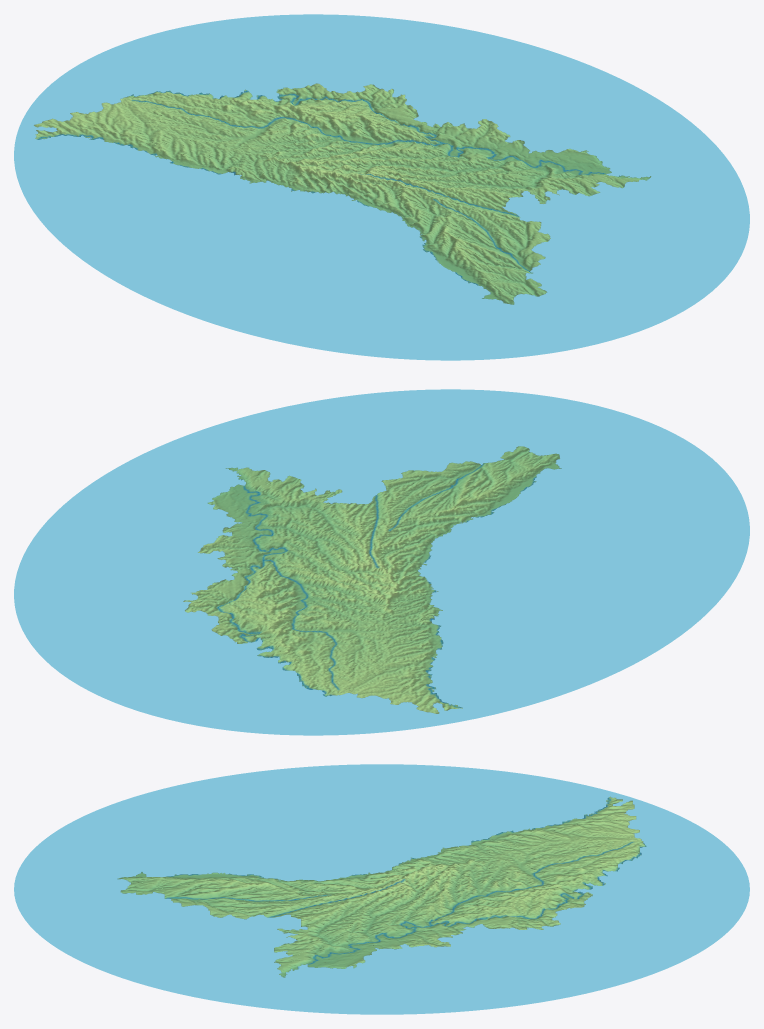
Rendered from MDA-terrain.glb.
3 views of the same model, one above another, from view 1: azimuth 30°, elevation 25°; view 2: azimuth 150°, elevation 25°; view 3: azimuth 270°, elevation 25° (orthographic). The views are drawn at different scales.
Visible parts, largest first — view 1: Relevo com hidrografia; view 2: Relevo com hidrografia; view 3: Relevo com hidrografia.
Part boxes in pixels (x1,y1,x2,y2): Relevo com hidrografia: [14, 14, 749, 360]; Relevo com hidrografia: [14, 389, 749, 735]; Relevo com hidrografia: [14, 764, 749, 1014].
Bounding box in the file's own units: 1.8 × 0.0226 × 2.24.
2 materials, 1 textured.
